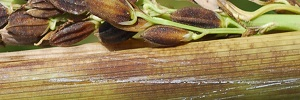RiceSheathBrownRot: (1, 35, 300, 99), (2, 3, 233, 31)
